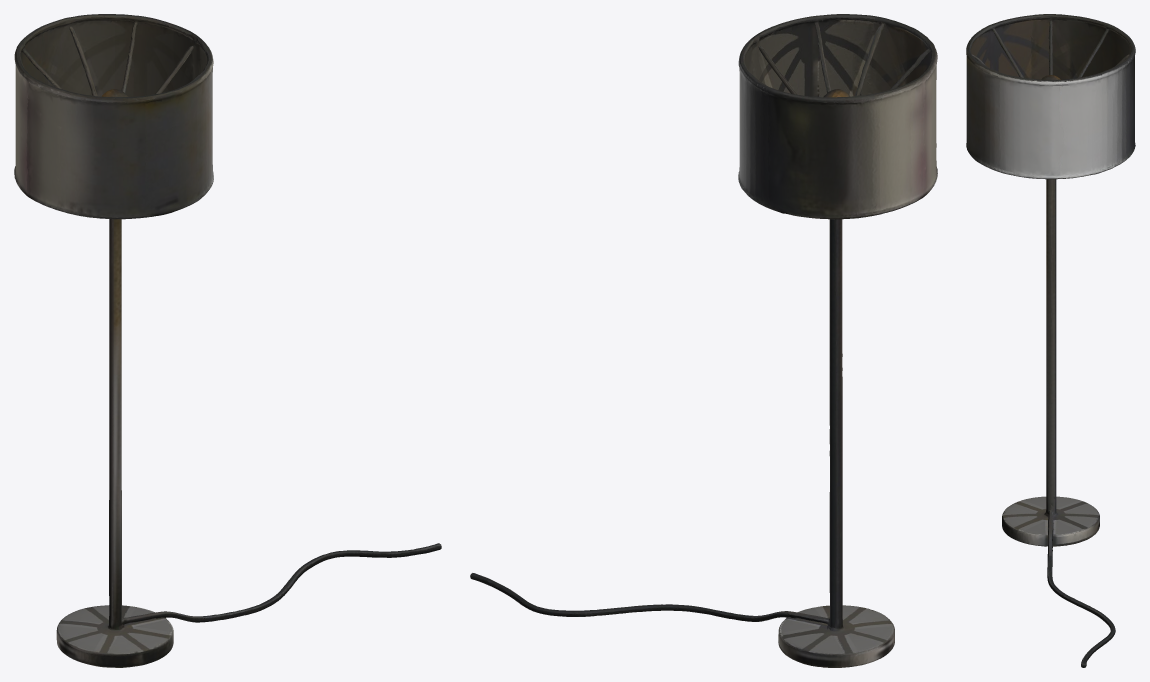
The model's file is L_FLOOR_LAMP.cyberpunk.glb.
The picture shows the model from 3 angles, left to right: view 1: azimuth 30°, elevation 25°; view 2: azimuth 150°, elevation 25°; view 3: azimuth 270°, elevation 25°; orthographic projection. The views are drawn at different scales.
Parts seen in each view (by area): view 1: geometry_0; view 2: geometry_0; view 3: geometry_0.
Part boxes in pixels (<box>): geometry_0: <box>14,14,441,667</box>; geometry_0: <box>470,14,937,667</box>; geometry_0: <box>966,14,1135,667</box>.
Bounding box in the file's own units: 1.11 × 1.45 × 0.4596.
Materials: 1 (1 with a texture image).
